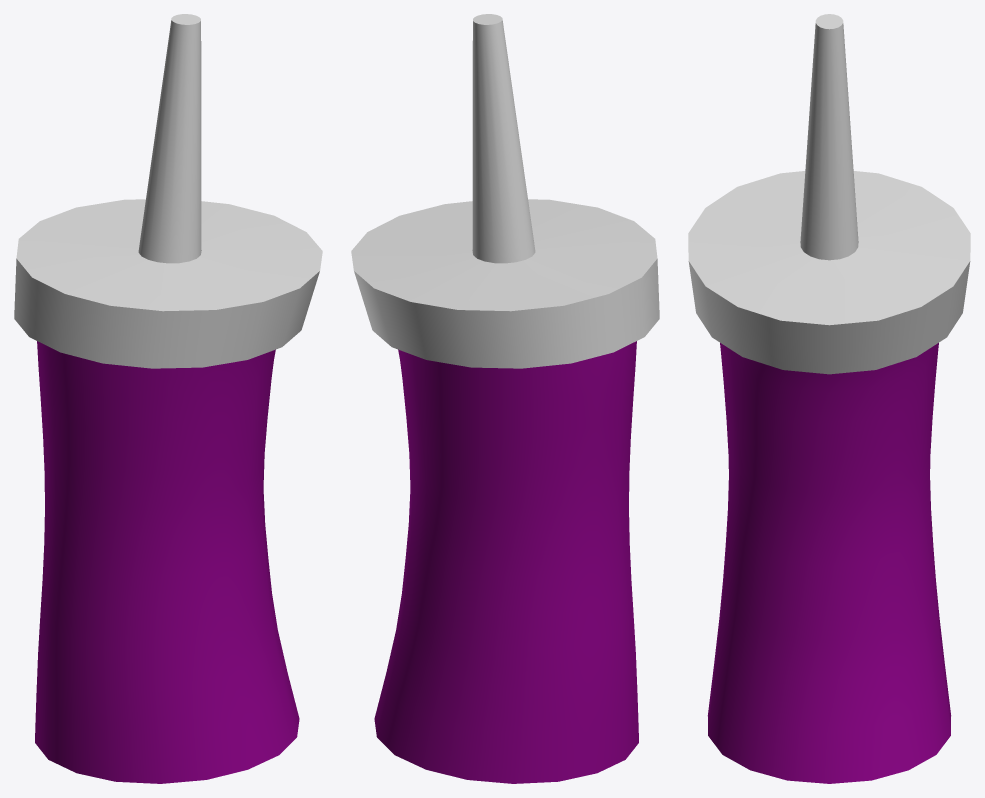
The model's file is Mustard.FBX.
3 renders of one model, left to right at view 1: azimuth 30°, elevation 25°; view 2: azimuth 150°, elevation 25°; view 3: azimuth 270°, elevation 25°, orthographic.
Parts seen in each view (by area): view 1: PRP_Ketchup_HR_1; view 2: PRP_Ketchup_HR_1; view 3: PRP_Ketchup_HR_1.
Part boxes in pixels (box(x1,y1,x2,y2)): PRP_Ketchup_HR_1: box(14, 14, 322, 783); PRP_Ketchup_HR_1: box(351, 14, 659, 783); PRP_Ketchup_HR_1: box(688, 14, 970, 783).
Size of the model in its own units: 11.63 by 28.35 by 10.16.
